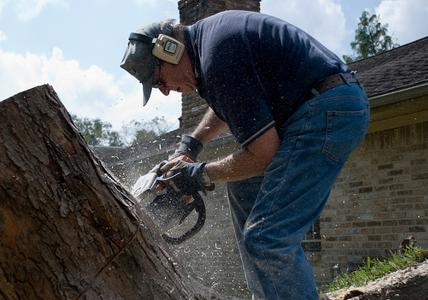person: (119, 10, 371, 300)
